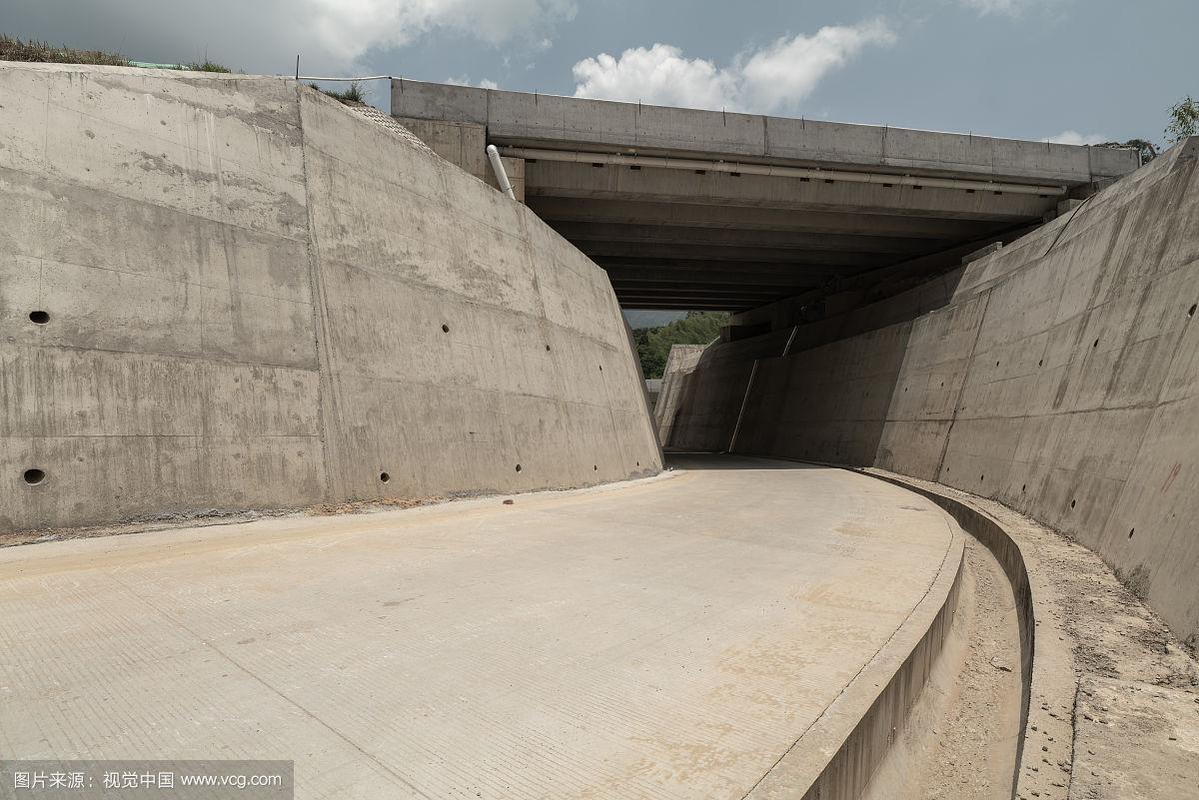bridge_bearing: (404, 140, 1081, 222)
tunnel_entrance: (579, 209, 962, 472)
